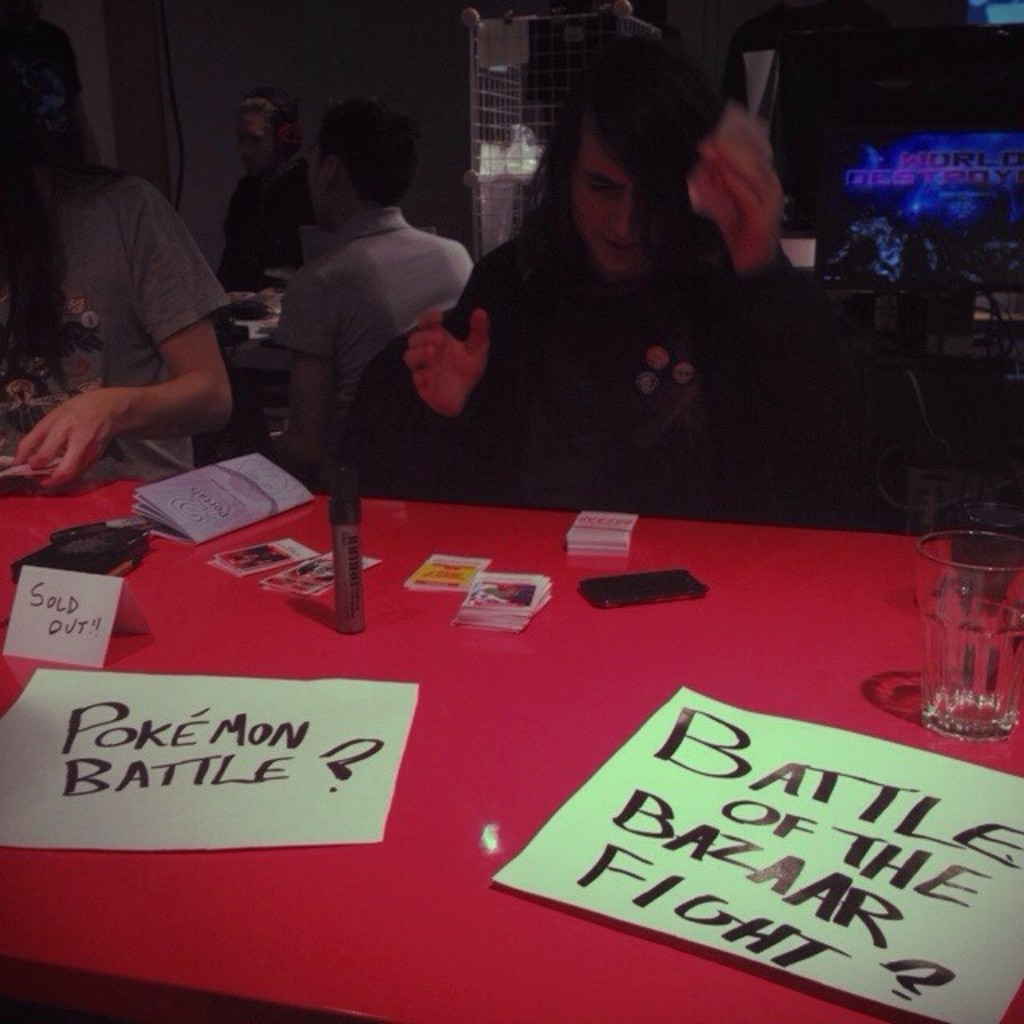Human-face: (566, 131, 630, 283)
